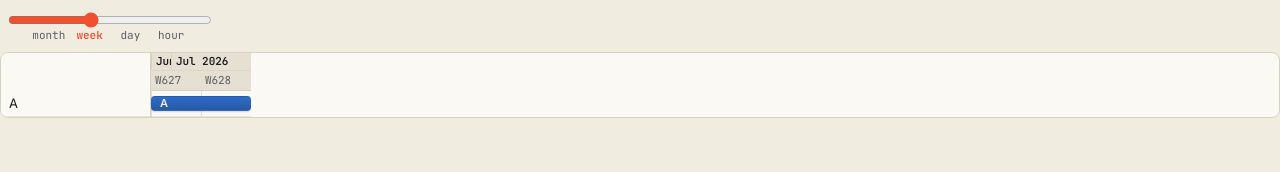
Test: sticky axis (#690 P7) › the axis says which day of the week it is (#690 P8) › labels every column with its weekday, under the week it belongs to
Click the button with aria-label "zoom day" at (130, 36), box [120,30,140,41]
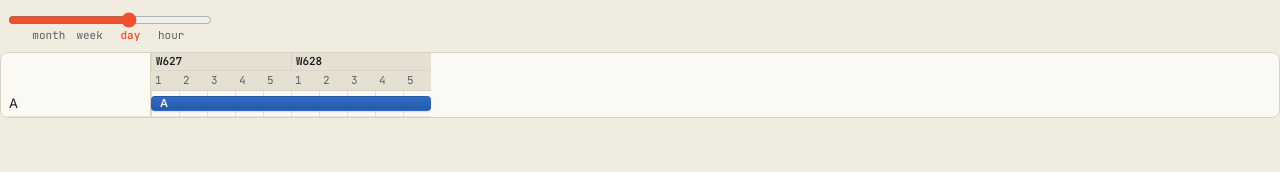
Now the 1st text "1" is shown, box [155,74,162,88]
Now the 1st text "3" is shown, box [211,74,218,88]
Now the 1st text "4" is shown, box [239,74,246,88]
